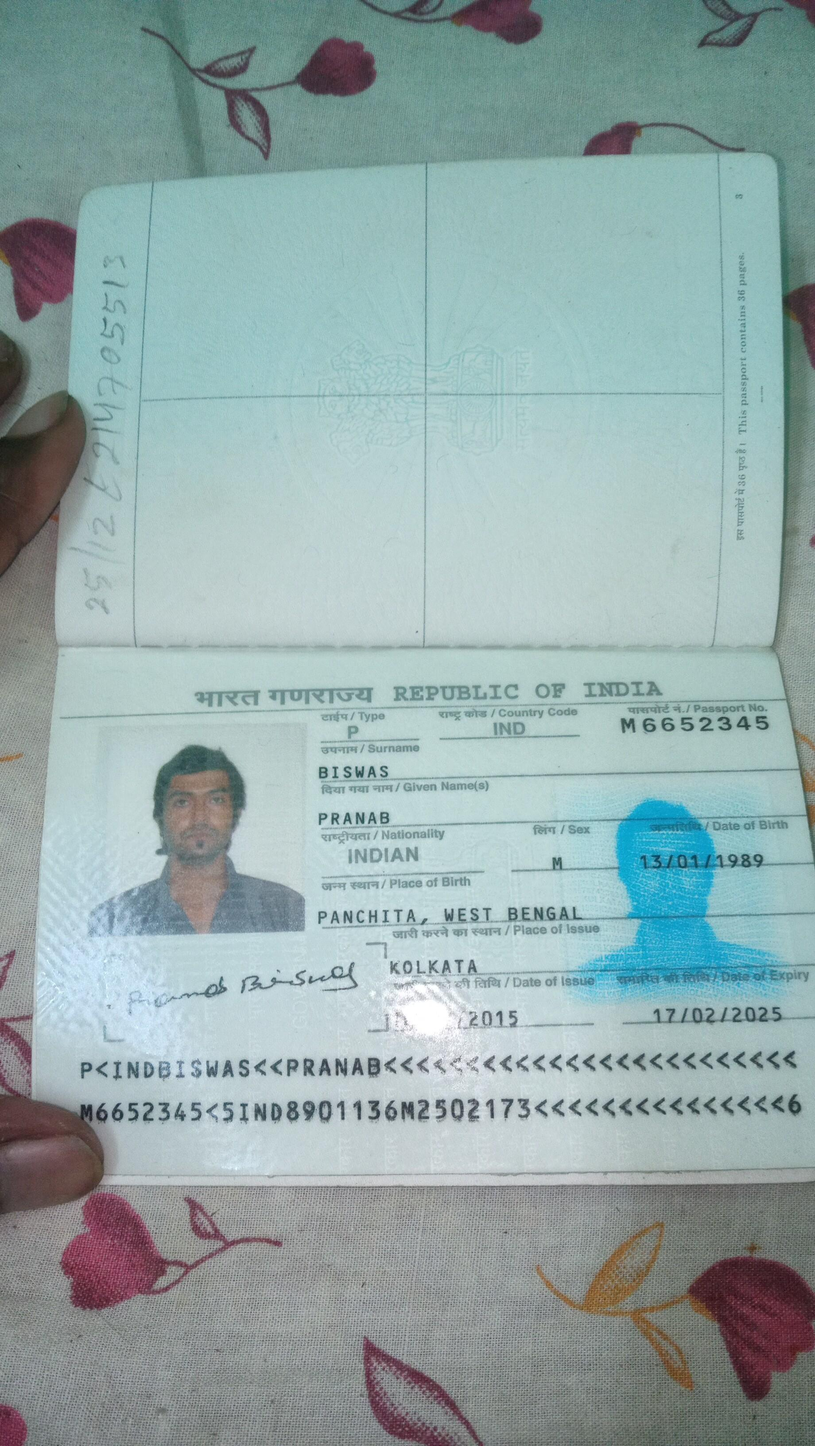DOB: (633, 843, 767, 877)
Surname: (314, 759, 396, 782)
country_code: (482, 718, 530, 740)
date_of_expiry: (648, 997, 794, 1030)
date_of_issue: (379, 1000, 531, 1035)
details: (68, 1047, 811, 1121)
name: (317, 808, 401, 831)
nationality: (340, 841, 430, 868)
passport_no: (608, 714, 777, 738)
photo: (103, 727, 300, 931)
place_of_birth: (310, 903, 586, 924)
place_of_issue: (385, 949, 491, 979)
sex: (543, 848, 574, 877)
sign: (121, 955, 376, 1016)
type: (332, 719, 369, 744)
